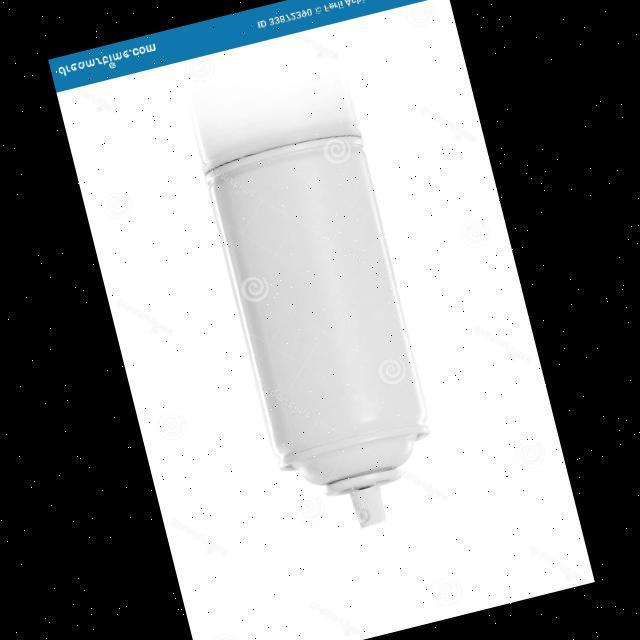chemical_spray_can: (169, 95, 481, 567)
